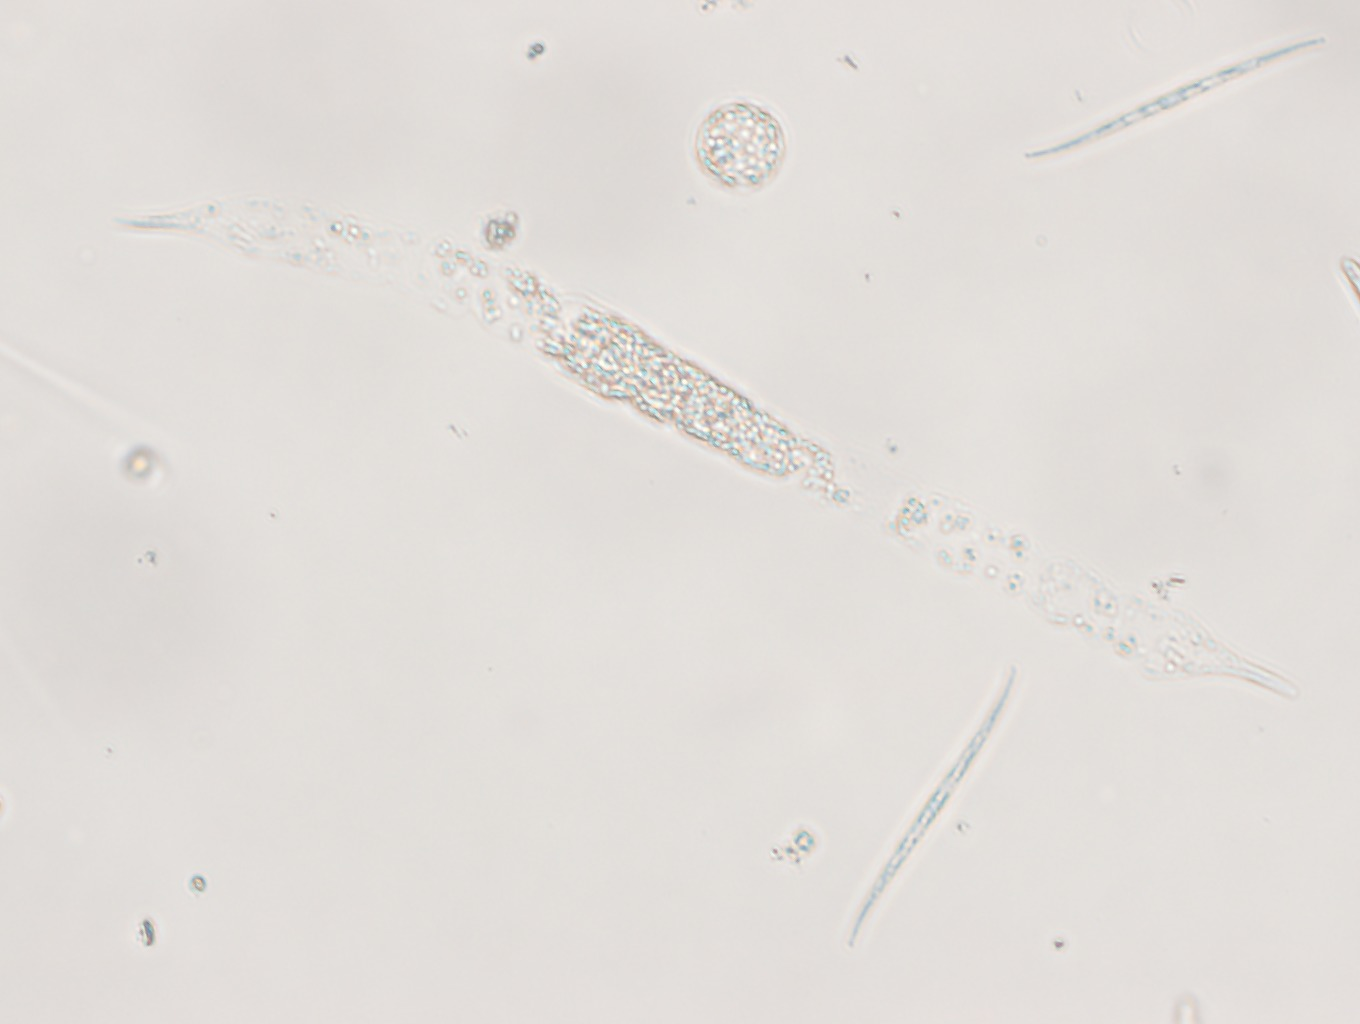pleurosigma pelagicum: (850, 660, 1018, 948), (1023, 34, 1341, 162)
rhizosolenia: (92, 185, 1306, 731)
